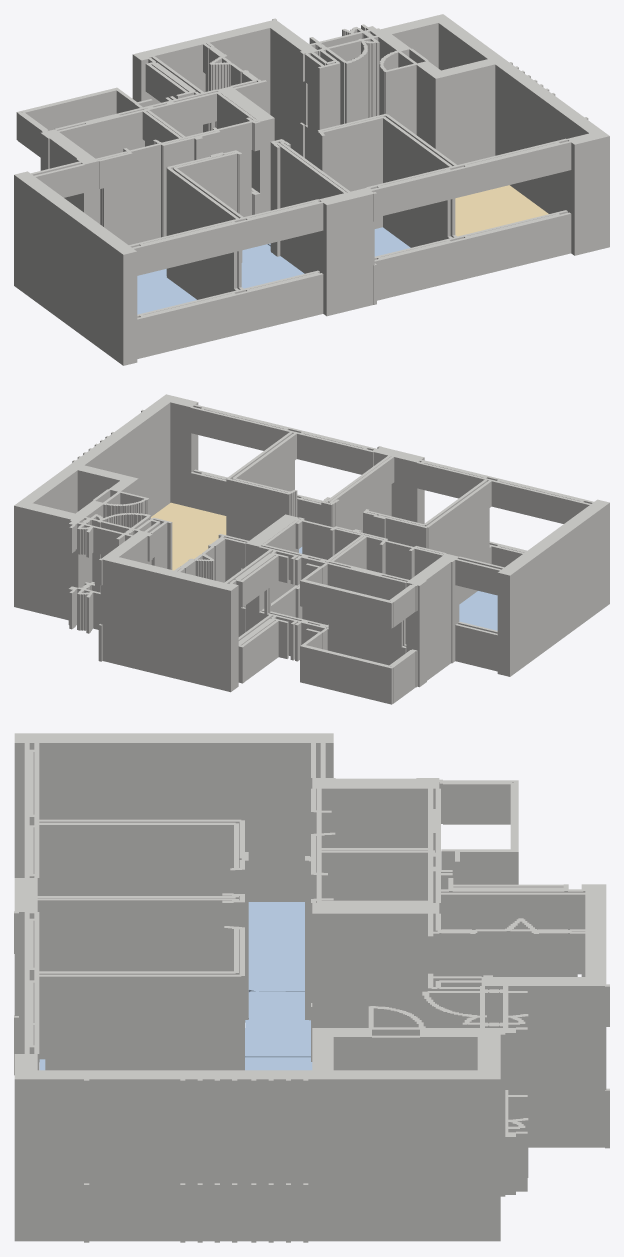
3 renders of one model, top to bottom at view 1: azimuth 30°, elevation 25°; view 2: azimuth 150°, elevation 25°; view 3: azimuth 270°, elevation 25°, orthographic. The views are drawn at different scales.
Parts seen in each view (by area): view 1: walls, room:living:9, room:bedroom:7, room:bedroom:3, room:bedroom:8; view 2: walls, room:living:9, room:bedroom:3; view 3: walls, room:bedroom:3, room:bedroom:7, room:bedroom:8.
Boxes of the visible parts, <box> form: walls: <box>14,14,609,365</box>; room:living:9: <box>455,185,548,236</box>; room:bedroom:7: <box>241,244,304,288</box>; room:bedroom:3: <box>137,269,196,314</box>; room:bedroom:8: <box>267,227,410,256</box>; walls: <box>14,394,609,704</box>; room:living:9: <box>151,502,226,570</box>; room:bedroom:3: <box>459,591,497,630</box>; walls: <box>14,733,609,1242</box>; room:bedroom:3: <box>248,902,304,991</box>; room:bedroom:7: <box>245,991,310,1057</box>; room:bedroom:8: <box>39,1057,312,1070</box>.
Bounding box in the file's own units: 12.89 × 2.8 × 9.34.
